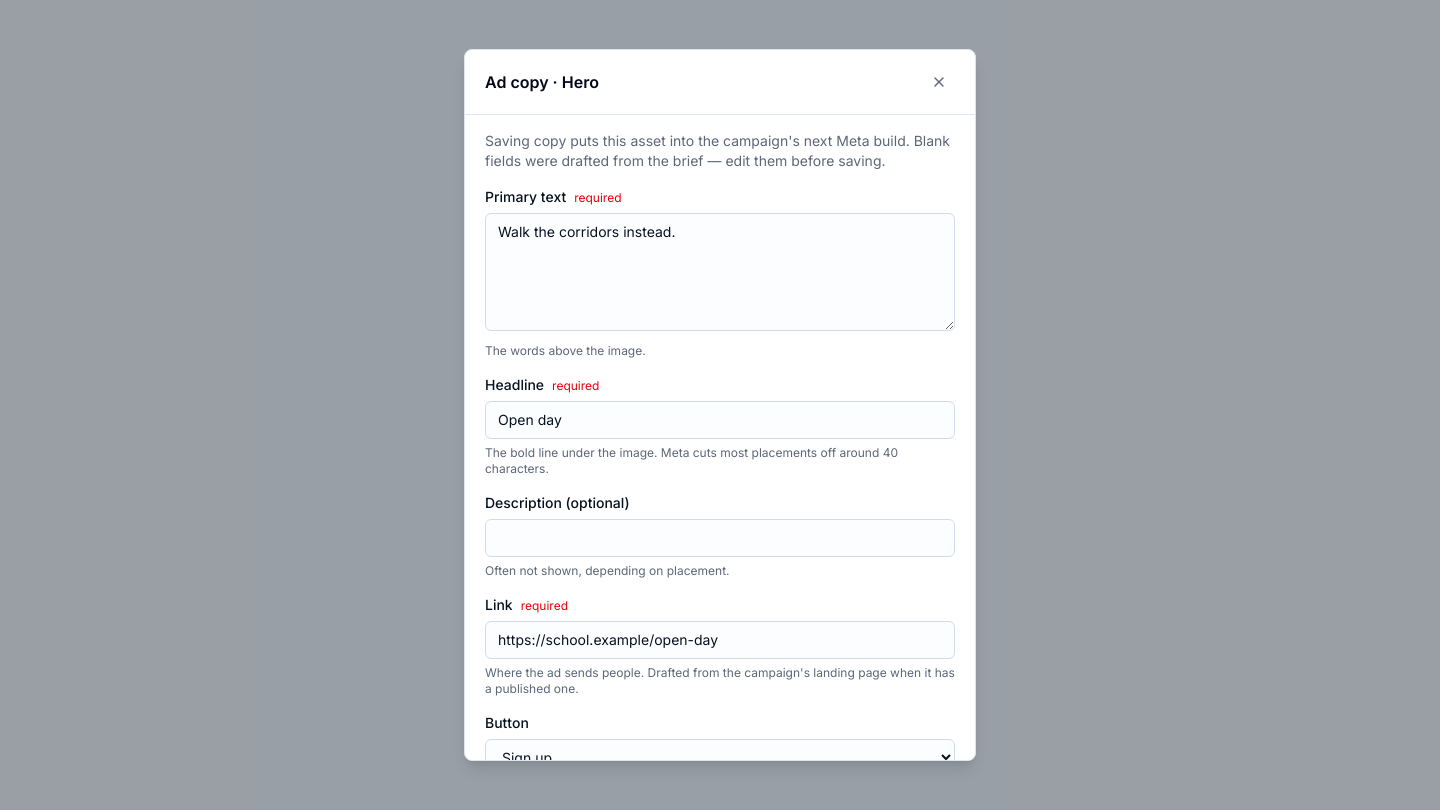
AdCopyModal › refuses a link Meta would refuse, and writes nothing
The width and height of the screenshot is (1440, 810).
Replace the text in the field labelled "Link required" with "school.example". click: (720, 640)
box: [485,621,955,659]
(page scrolled)
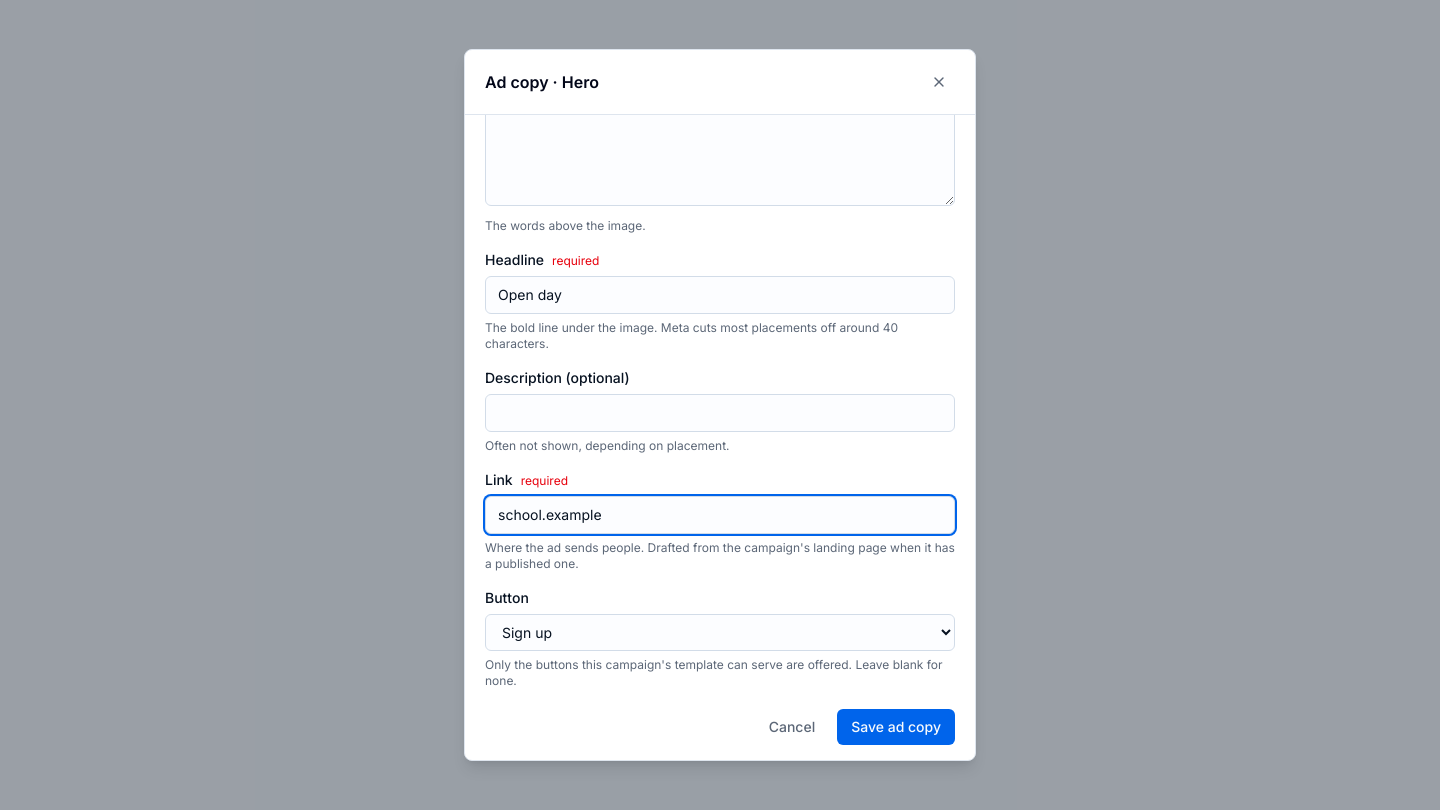
Click the button "Save ad copy". click: (896, 727)
box: [837,709,955,745]
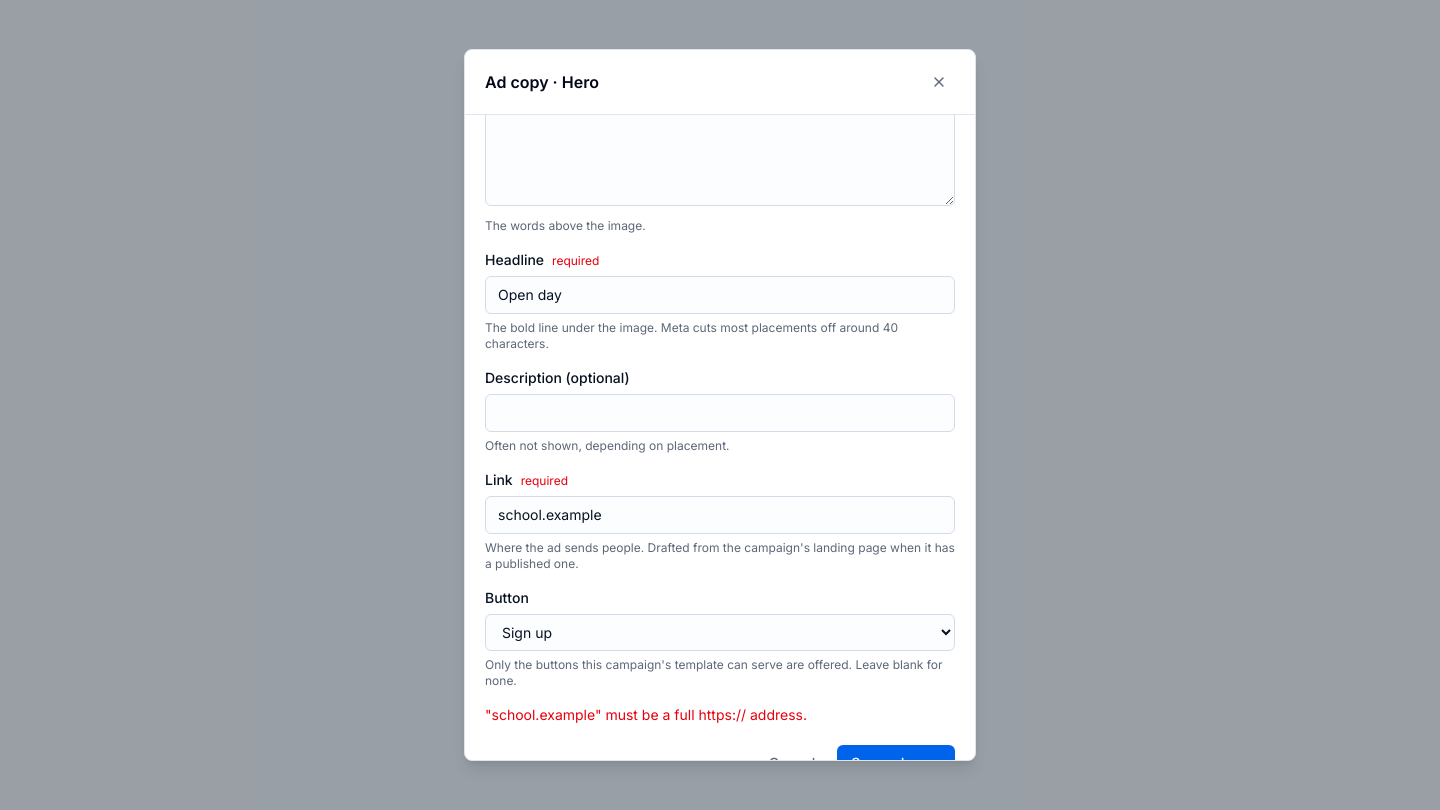
Expected: the message shows "https", [485,706,807,723]
